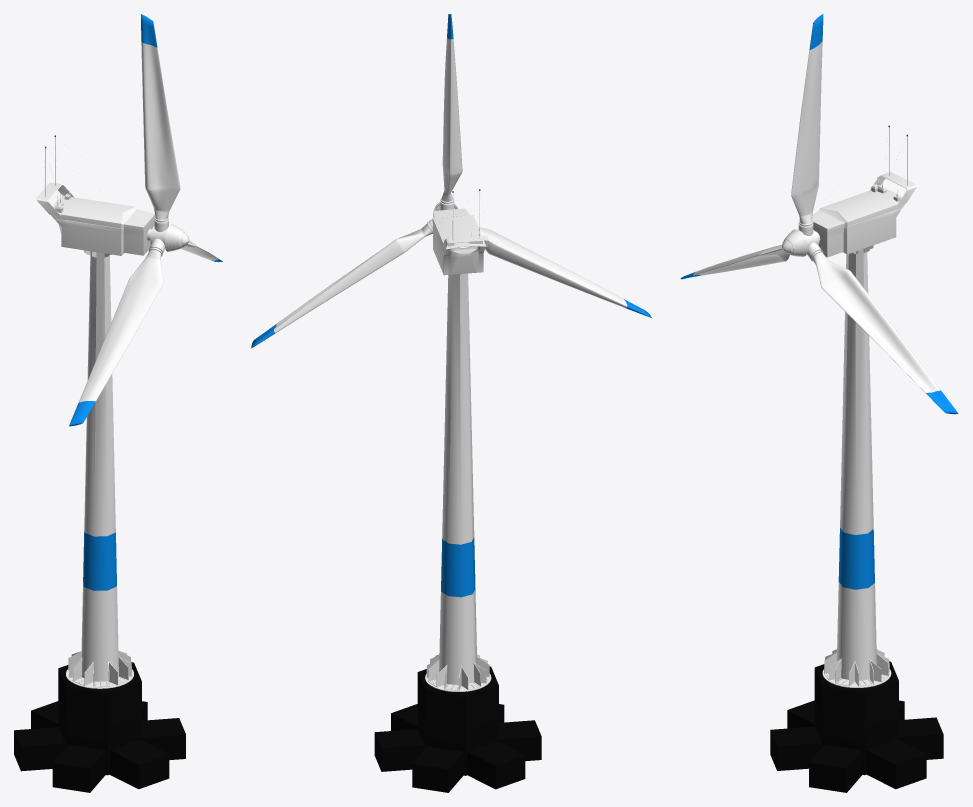
Rendered from fengche.gltf.
The picture shows the model from 3 angles, left to right: view 1: azimuth 30°, elevation 25°; view 2: azimuth 150°, elevation 25°; view 3: azimuth 270°, elevation 25°; orthographic projection. The views are drawn at different scales.
Parts seen in each view (by area): view 1: Wingen_001, Wingen_002, Wingen_014, Wingen_015, Wingen_004, Wingen_006, Wingen_012, Wingen_005, Wingen_003; view 2: Wingen_001, Wingen_002, Wingen_015, Wingen_014, Wingen_013, Wingen_004, Wingen_012, Wingen_006; view 3: Wingen_001, Wingen_002, Wingen_013, Wingen_014, Wingen_004, Wingen_006, Wingen_012, Wingen_015, Wingen_003, Wingen_005.
Part boxes in pixels (left/top/right/bottom): Wingen_001: left=14, top=662, right=185, bottom=792; Wingen_002: left=66, top=251, right=133, bottom=688; Wingen_014: left=141, top=14, right=180, bottom=231; Wingen_015: left=69, top=238, right=165, bottom=426; Wingen_004: left=54, top=209, right=154, bottom=255; Wingen_006: left=50, top=195, right=136, bottom=228; Wingen_012: left=68, top=250, right=131, bottom=687; Wingen_005: left=36, top=182, right=74, bottom=216; Wingen_003: left=165, top=224, right=189, bottom=251; Wingen_001: left=374, top=666, right=541, bottom=792; Wingen_002: left=425, top=273, right=491, bottom=691; Wingen_015: left=478, top=226, right=651, bottom=317; Wingen_014: left=440, top=14, right=462, bottom=210; Wingen_013: left=251, top=219, right=432, bottom=348; Wingen_004: left=433, top=208, right=485, bottom=275; Wingen_012: left=426, top=274, right=489, bottom=690; Wingen_006: left=432, top=215, right=486, bottom=251; Wingen_001: left=770, top=661, right=943, bottom=792; Wingen_002: left=822, top=249, right=891, bottom=687; Wingen_013: left=807, top=242, right=958, bottom=414; Wingen_014: left=791, top=14, right=823, bottom=235; Wingen_004: left=812, top=207, right=902, bottom=257; Wingen_006: left=819, top=189, right=905, bottom=226; Wingen_012: left=824, top=245, right=889, bottom=686; Wingen_015: left=680, top=245, right=789, bottom=279; Wingen_003: left=782, top=229, right=807, bottom=256; Wingen_005: left=869, top=172, right=916, bottom=206.
Bounding box in the file's own units: 12082 × 30678 × 10249.
